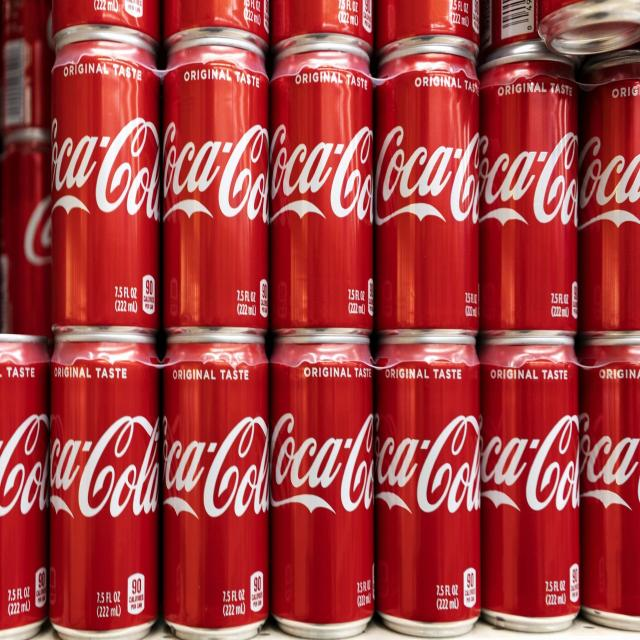coca cola: (46, 113, 160, 222), (48, 414, 160, 522), (165, 414, 267, 523), (270, 410, 376, 512), (478, 133, 580, 234), (269, 124, 373, 223), (482, 413, 582, 511)
